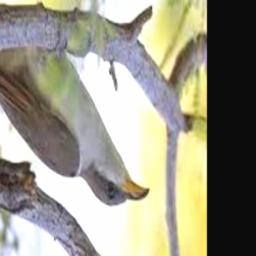Cuckoo: (0, 46, 149, 208)
